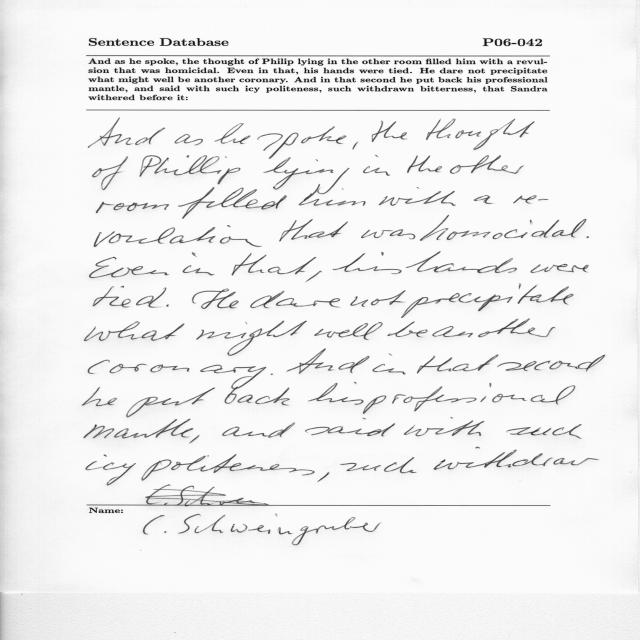word: (88, 360, 266, 404), (363, 383, 575, 414), (401, 284, 574, 318), (142, 454, 315, 486), (420, 215, 587, 241), (333, 251, 517, 274), (196, 321, 307, 356), (434, 447, 599, 470), (94, 225, 262, 247), (178, 187, 286, 219), (426, 119, 535, 150), (257, 126, 347, 159), (140, 155, 241, 184), (263, 157, 350, 190), (90, 252, 196, 278), (126, 388, 215, 418), (89, 118, 166, 148), (433, 319, 556, 337), (84, 419, 193, 438), (287, 349, 369, 374), (85, 321, 185, 341), (299, 178, 366, 206), (497, 355, 605, 372), (305, 418, 395, 437), (93, 286, 167, 308), (279, 219, 348, 242), (417, 355, 499, 374), (86, 455, 136, 486), (250, 291, 340, 308), (404, 417, 484, 436), (379, 187, 456, 206), (450, 155, 524, 174), (309, 382, 364, 405), (314, 322, 383, 340), (340, 457, 417, 473), (93, 156, 128, 190), (507, 424, 582, 439), (222, 423, 295, 438), (192, 288, 239, 309), (238, 388, 290, 406), (351, 290, 406, 307), (268, 257, 316, 274), (96, 202, 169, 213), (232, 253, 267, 275), (215, 123, 251, 144), (372, 121, 407, 142), (372, 354, 406, 375), (82, 387, 117, 406), (407, 155, 442, 173), (387, 322, 428, 337), (363, 155, 390, 176), (361, 229, 415, 239), (530, 264, 589, 273), (183, 265, 215, 276), (174, 134, 203, 145), (514, 196, 549, 204), (306, 271, 322, 282), (474, 195, 492, 204), (317, 472, 330, 482), (189, 436, 200, 444), (352, 142, 358, 150), (166, 304, 169, 307), (586, 236, 589, 238), (270, 374, 273, 375)
